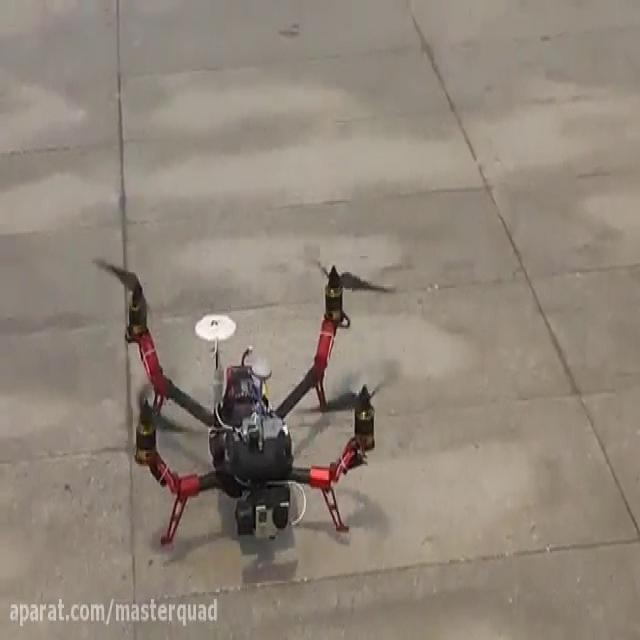drone: (82, 231, 404, 558)
